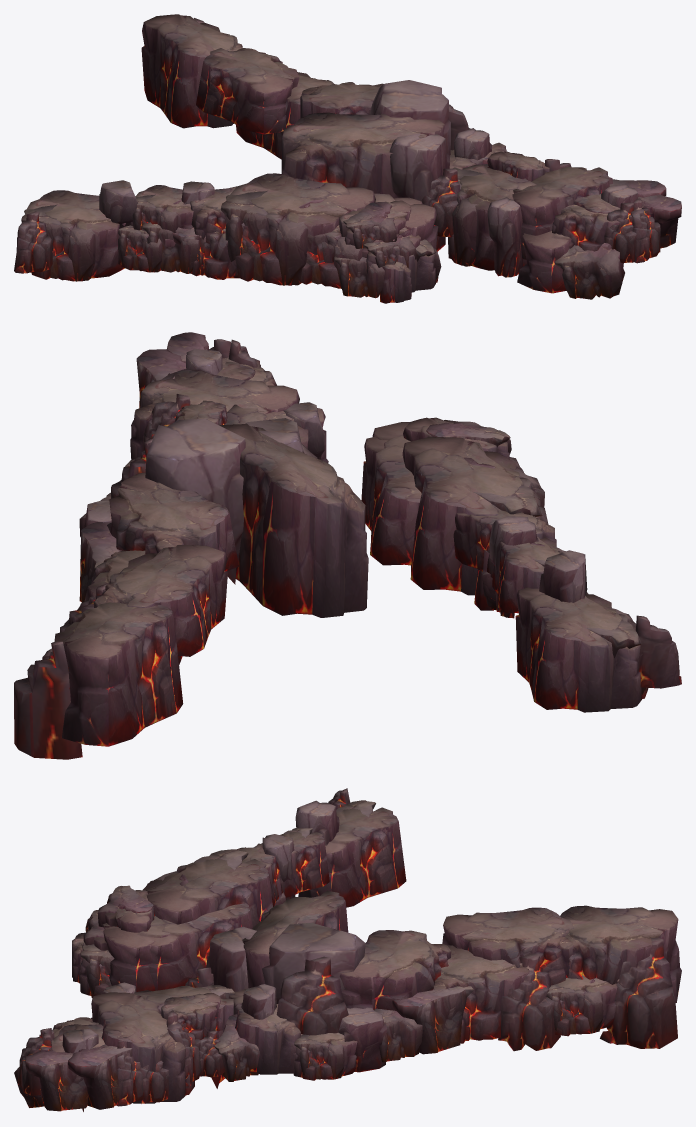
File: yanshi8_1.fbx
3 views of the same model, one above another, from view 1: azimuth 30°, elevation 25°; view 2: azimuth 150°, elevation 25°; view 3: azimuth 270°, elevation 25° (orthographic). The views are drawn at different scales.
Visible parts, largest first — view 1: yanshi8_1; view 2: yanshi8_1; view 3: yanshi8_1.
Part boxes in pixels (x1=…): yanshi8_1: x1=14, y1=14, x2=681, y2=303; yanshi8_1: x1=14, y1=332, x2=681, y2=759; yanshi8_1: x1=14, y1=788, x2=681, y2=1111.
Size of the model in its own units: 10449 by 2370 by 10526.
